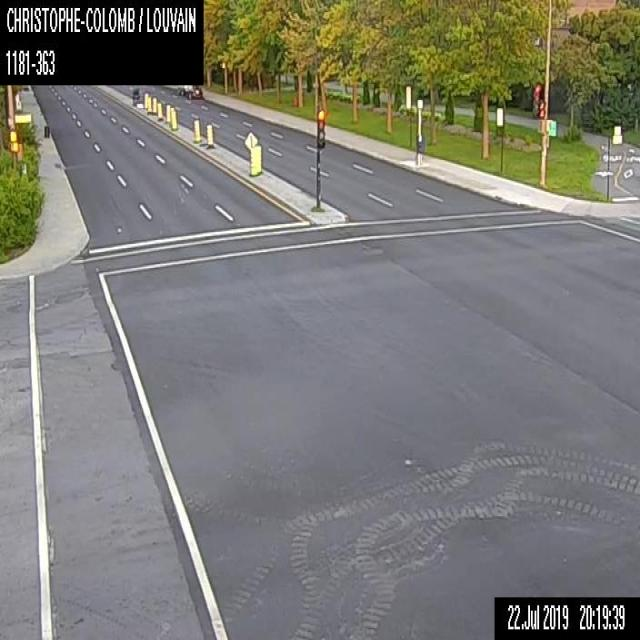construction: (243, 129, 257, 149), (249, 145, 258, 176), (254, 144, 262, 174), (192, 116, 201, 142), (205, 122, 213, 148), (170, 106, 178, 130), (165, 103, 172, 124), (157, 100, 162, 121), (146, 95, 152, 112), (152, 95, 156, 113), (144, 91, 148, 108)
vehicle: (178, 83, 204, 100)
